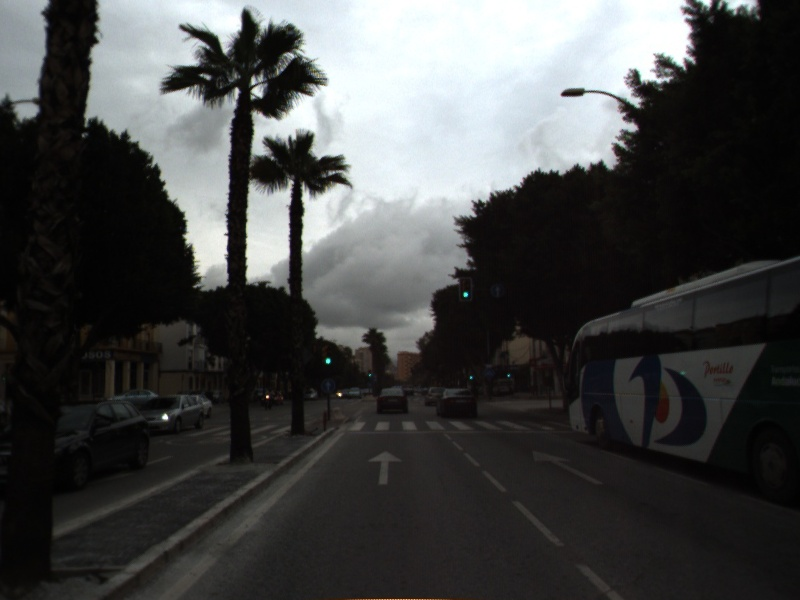STRAIGHT: (530, 447, 606, 487), (366, 448, 405, 487)
